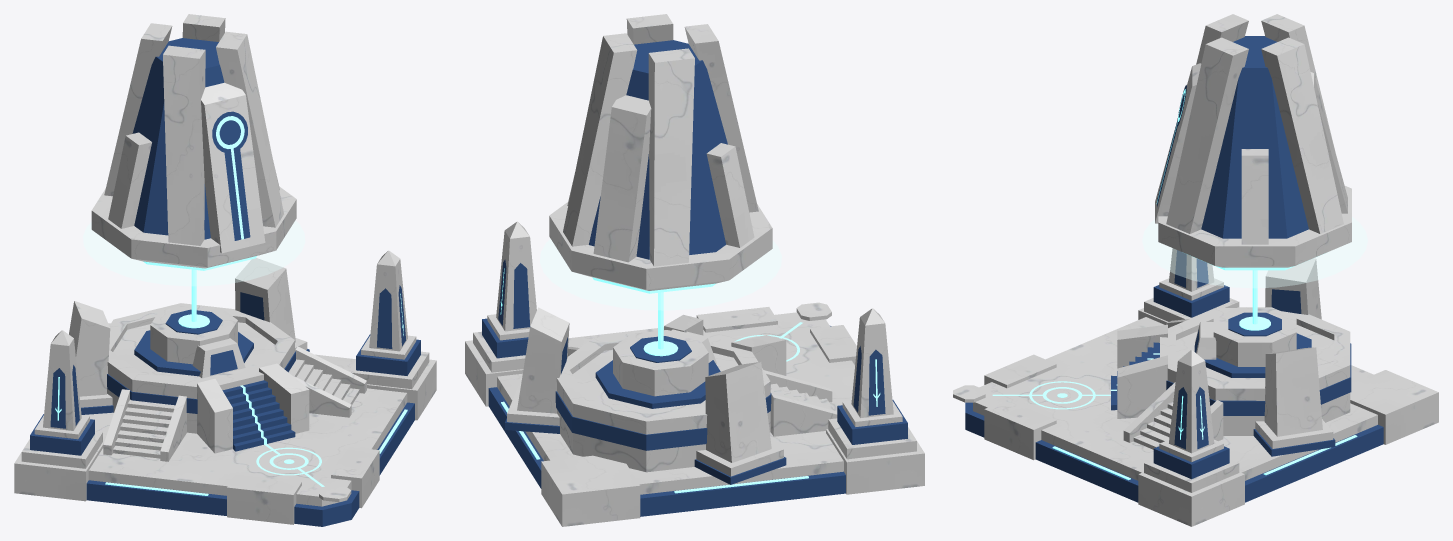
The model's file is trone-meshy.glb.
The picture shows the model from 3 angles, left to right: view 1: azimuth 30°, elevation 25°; view 2: azimuth 150°, elevation 25°; view 3: azimuth 270°, elevation 25°; orthographic projection. The views are drawn at different scales.
Parts seen in each view (by area): view 1: base, float_couronne, fx_halo, fx_cyan_cone, fx_cyan_cercle, fx_cyan_socle; view 2: base, float_couronne, fx_halo, fx_cyan_socle; view 3: base, float_couronne, fx_halo, fx_cyan_cercle, fx_cyan_socle.
Boxes of the visible parts, <box> form: base: <box>14,250,436,526</box>; float_couronne: <box>91,14,296,268</box>; fx_halo: <box>83,220,304,285</box>; fx_cyan_cone: <box>143,116,256,270</box>; fx_cyan_cercle: <box>256,444,324,486</box>; fx_cyan_socle: <box>105,409,407,495</box>; base: <box>465,221,924,526</box>; float_couronne: <box>549,14,772,290</box>; fx_halo: <box>540,239,781,310</box>; fx_cyan_socle: <box>501,401,808,493</box>; base: <box>953,248,1438,526</box>; float_couronne: <box>1155,14,1351,267</box>; fx_halo: <box>1142,217,1367,287</box>; fx_cyan_cercle: <box>992,381,1110,409</box>; fx_cyan_socle: <box>1052,435,1357,480</box>.
Size of the model in its own units: 3.9 by 3.37 by 3.83.
4 materials, 1 textured.
